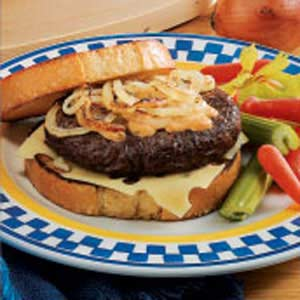hamburger_buns: (1, 35, 178, 121)
